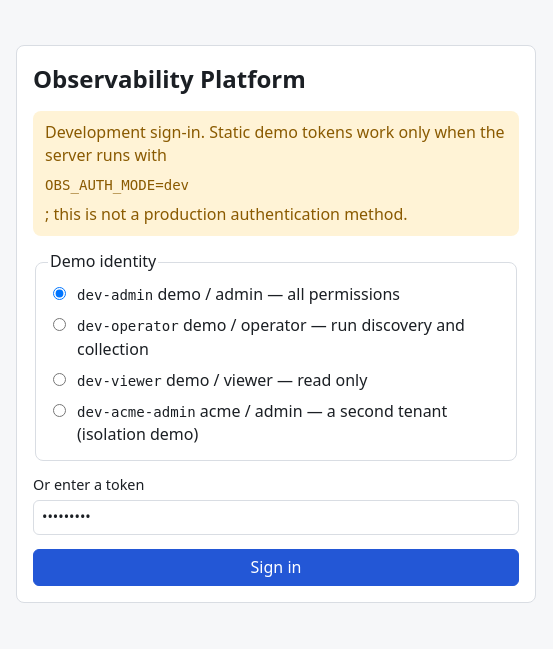
Test case: App › shows an error when the token is rejected
This screenshot has width=553, height=649.
Click the button "Sign in".
click(276, 568)  # box [33,549,519,586]
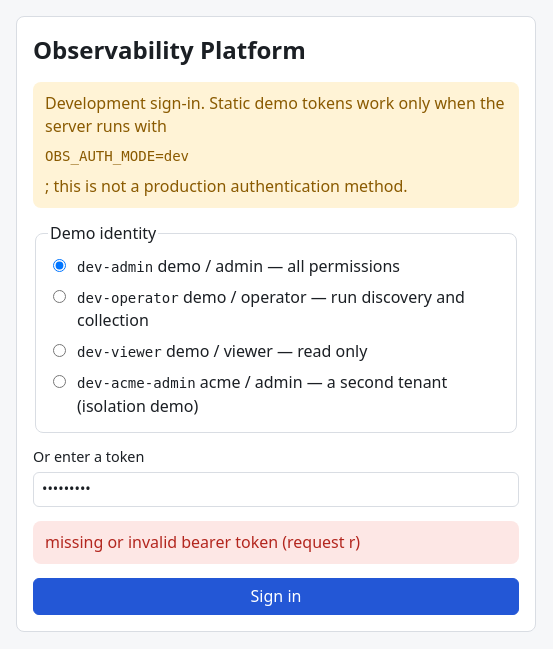
Check: the message shows "missing or invalid bearer token", box [45,530,360,552]
